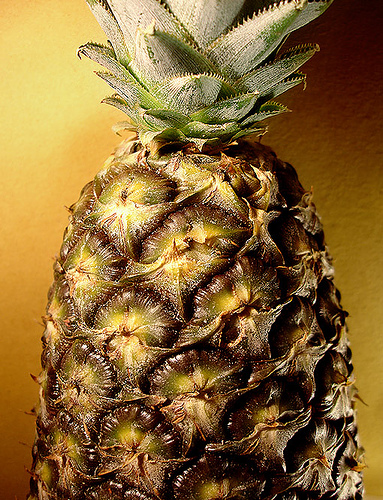pineapple: (25, 1, 369, 498)
